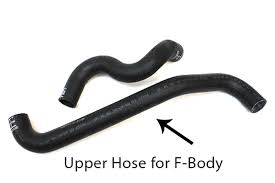radiator_hose: (8, 74, 266, 153), (59, 39, 184, 107)
